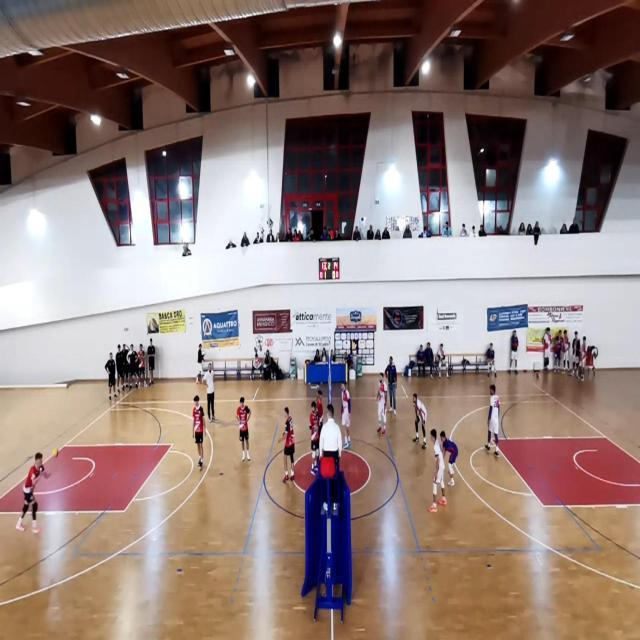volleyball: (50, 447, 59, 457)
